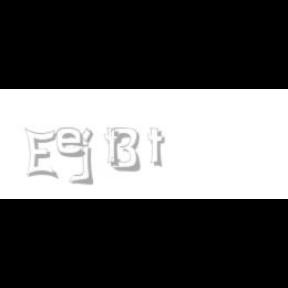3: (110, 128, 142, 172)
E: (24, 128, 57, 180)
e: (56, 128, 90, 158)
j: (79, 128, 108, 186)
t: (104, 128, 126, 168), (147, 128, 169, 168)
